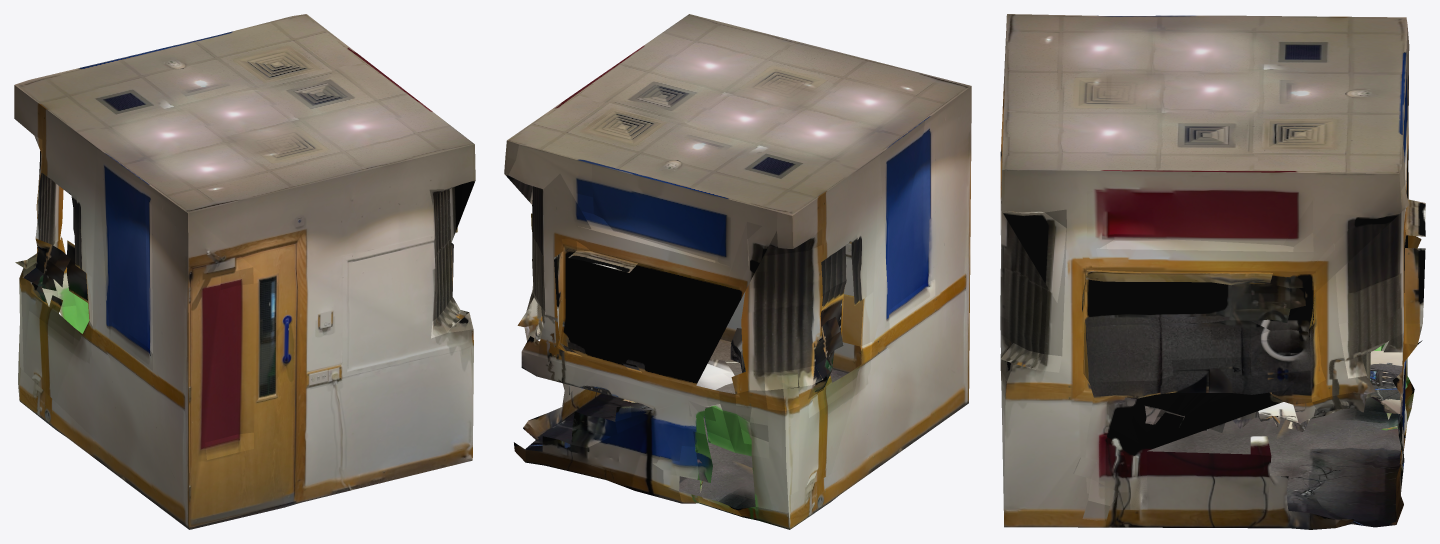
3 renders of one model, left to right at view 1: azimuth 30°, elevation 25°; view 2: azimuth 150°, elevation 25°; view 3: azimuth 270°, elevation 25°, orthographic. The views are drawn at different scales.
Visible parts, largest first — view 1: M214c-IM; view 2: M214c-IM; view 3: M214c-IM.
Boxes of the visible parts, left/top/right/bottom form: M214c-IM: left=14, top=14, right=475, bottom=529; M214c-IM: left=504, top=14, right=971, bottom=529; M214c-IM: left=1000, top=14, right=1425, bottom=529.
Size of the model in its own units: 255 by 245 by 261.
1 material, 1 textured.
